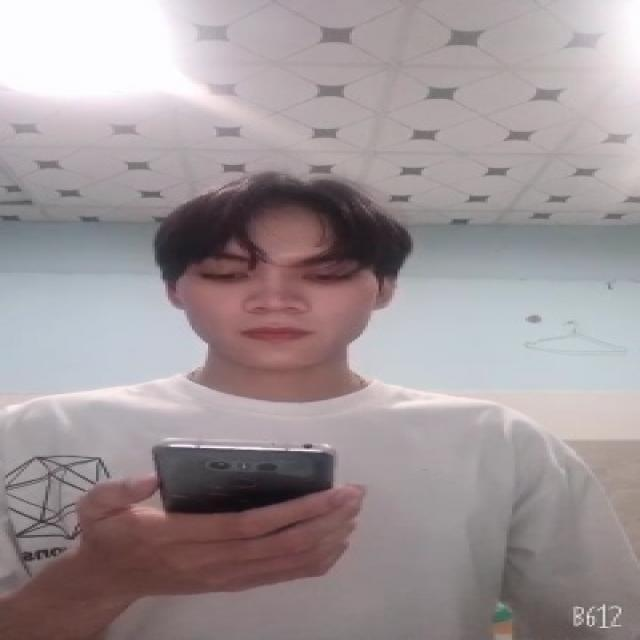Phone: (150, 434, 338, 518)
